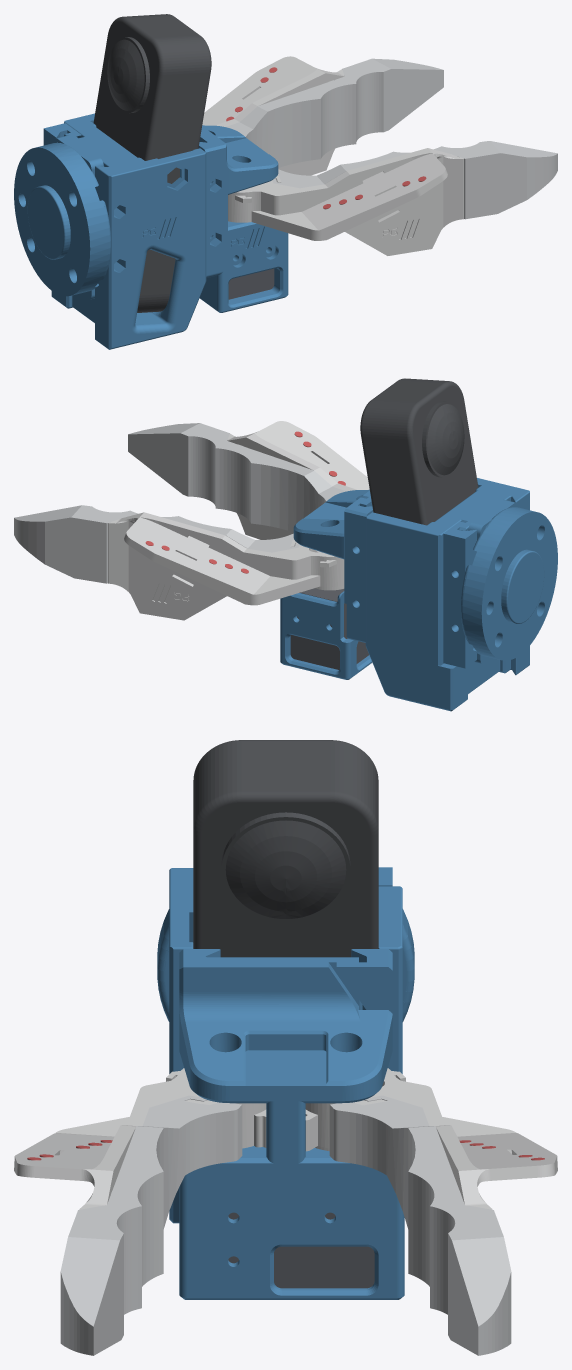
File: pg_chopstick_iso50.glb
3 views of the same model, one above another, from view 1: azimuth 30°, elevation 25°; view 2: azimuth 150°, elevation 25°; view 3: azimuth 270°, elevation 25° (orthographic). The views are drawn at different scales.
Parts seen in each view (by area): view 1: x5_frame, insta360_x5_envelope, jaw_right, tip_tpu_left, iso_flange_plate, chopstick_base_sa, tip_tpu_right, jaw_left_sa, servo_envelope, x5_clip_b; view 2: x5_frame, jaw_left_sa, insta360_x5_envelope, tip_tpu_right, iso_flange_plate, chopstick_base_sa, tip_tpu_left, jaw_right, x5_clip_b, chopstick_clip_sa, servo_envelope; view 3: chopstick_base_sa, insta360_x5_envelope, tip_tpu_right, tip_tpu_left, jaw_left_sa, jaw_right, x5_frame, servo_envelope, chopstick_clip_sa, iso_flange_plate.
Boxes of the visible parts, x1,y1,x2,y2 form: x5_frame: (51, 113, 206, 349); insta360_x5_envelope: (93, 14, 211, 312); jaw_right: (228, 148, 463, 255); tip_tpu_left: (226, 58, 443, 167); iso_flange_plate: (14, 135, 110, 299); chopstick_base_sa: (198, 125, 288, 312); tip_tpu_right: (272, 141, 557, 219); jaw_left_sa: (202, 56, 344, 175); servo_envelope: (228, 268, 274, 299); x5_clip_b: (43, 123, 81, 145); x5_frame: (365, 478, 529, 711); jaw_left_sa: (108, 512, 344, 620); insta360_x5_envelope: (360, 378, 478, 525); tip_tpu_right: (128, 423, 346, 532); iso_flange_plate: (461, 499, 557, 663); chopstick_base_sa: (280, 489, 372, 679); tip_tpu_left: (14, 505, 299, 583); jaw_right: (227, 421, 369, 539); x5_clip_b: (443, 521, 476, 668); chopstick_clip_sa: (344, 497, 373, 642); servo_envelope: (290, 588, 368, 669); chopstick_base_sa: (179, 949, 404, 1299); insta360_x5_envelope: (193, 740, 378, 957); tip_tpu_right: (60, 1095, 242, 1355); tip_tpu_left: (329, 1095, 511, 1355); jaw_left_sa: (305, 1068, 557, 1209); jaw_right: (14, 1068, 266, 1209); x5_frame: (169, 868, 402, 1223); servo_envelope: (228, 1212, 374, 1288); chopstick_clip_sa: (336, 949, 392, 1070); iso_flange_plate: (157, 909, 414, 1021).
Size of the model in its own units: 0.2206 by 0.1302 by 0.1352.
